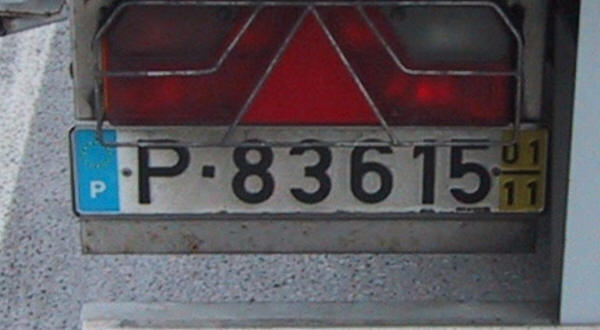license_plate: (69, 127, 546, 215)
